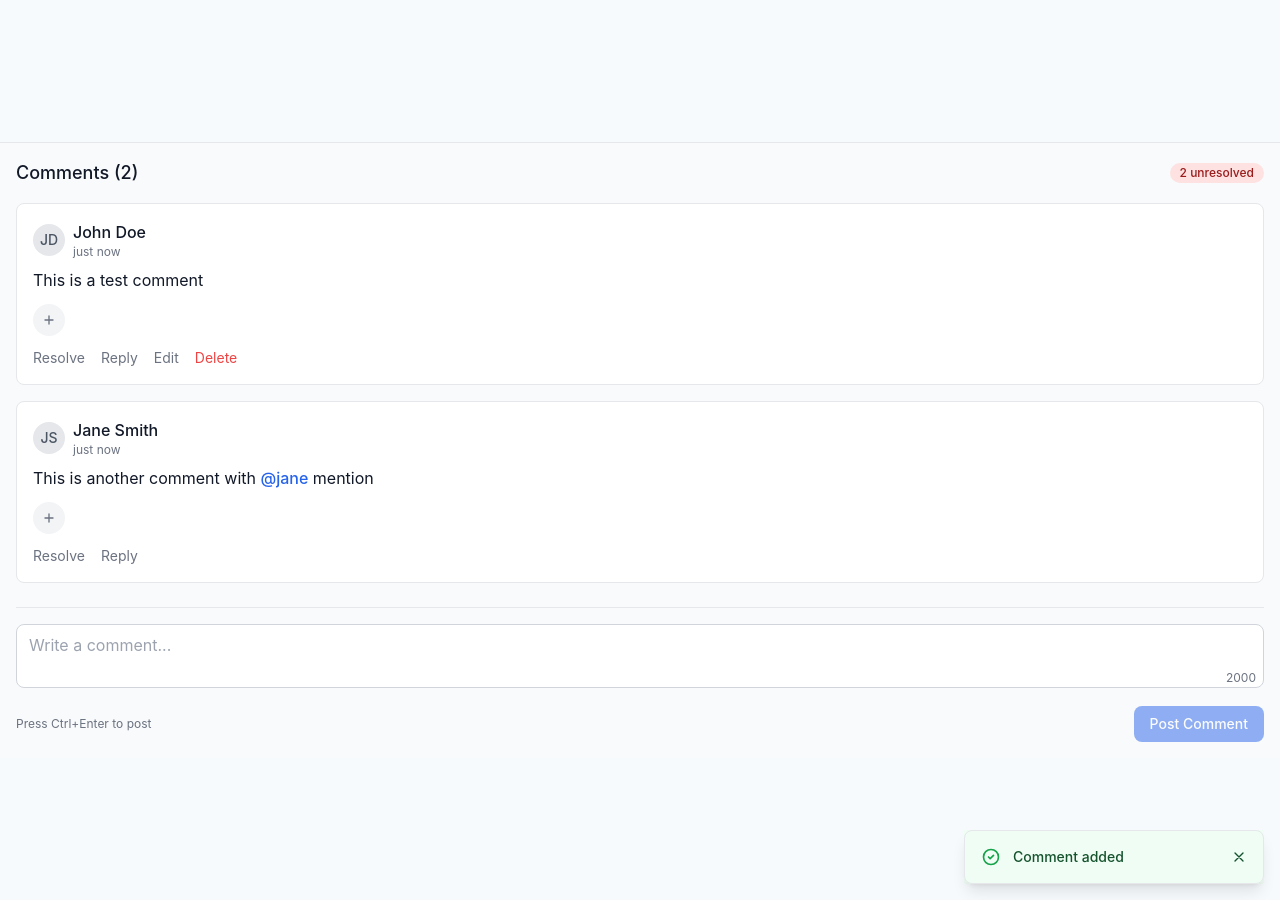
Scenario: CommentThread › edit comment shows edit input inline
expect the text "This is a test comment" is shown: met, box [33,270,203,290]
Click the button with aria-label "edit comment" at (166, 358), box [154,348,179,368]
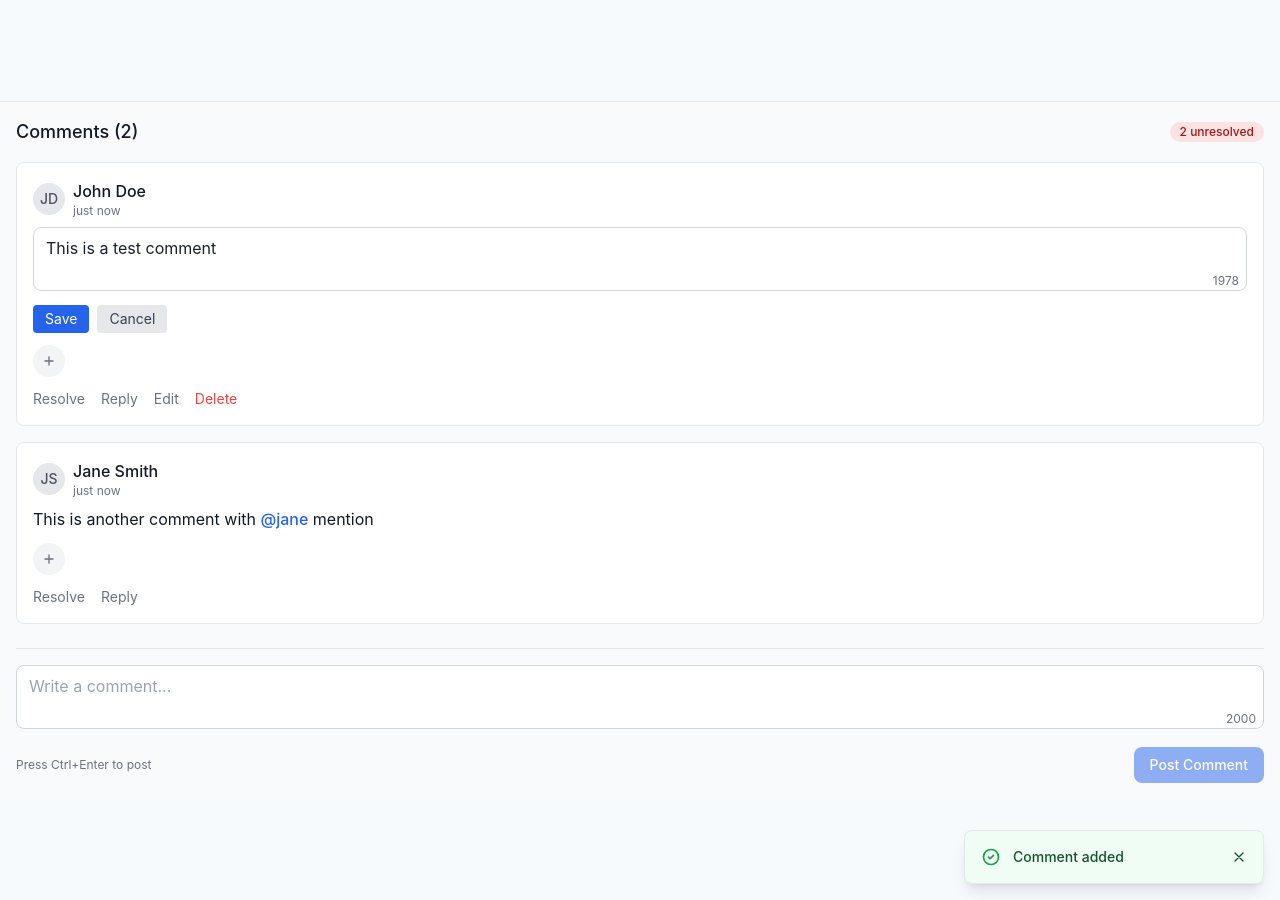
expect the text box showing "This is a test comment" is shown: met, box [33,227,1247,291]
